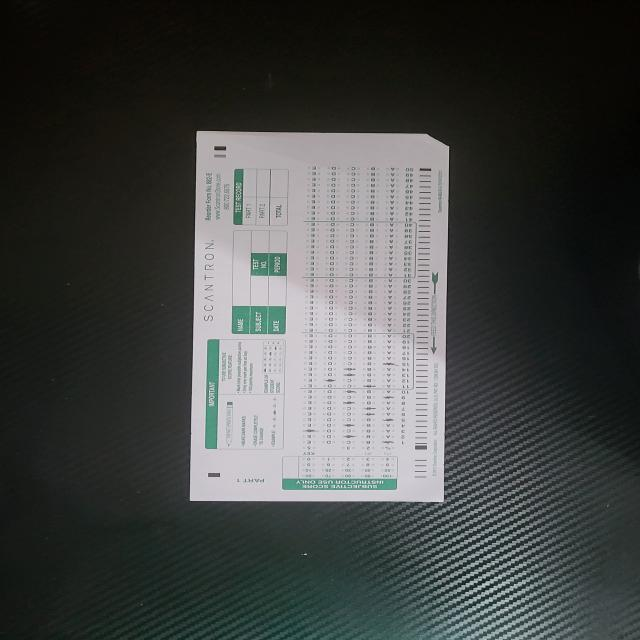scantron: (189, 131, 450, 502)
